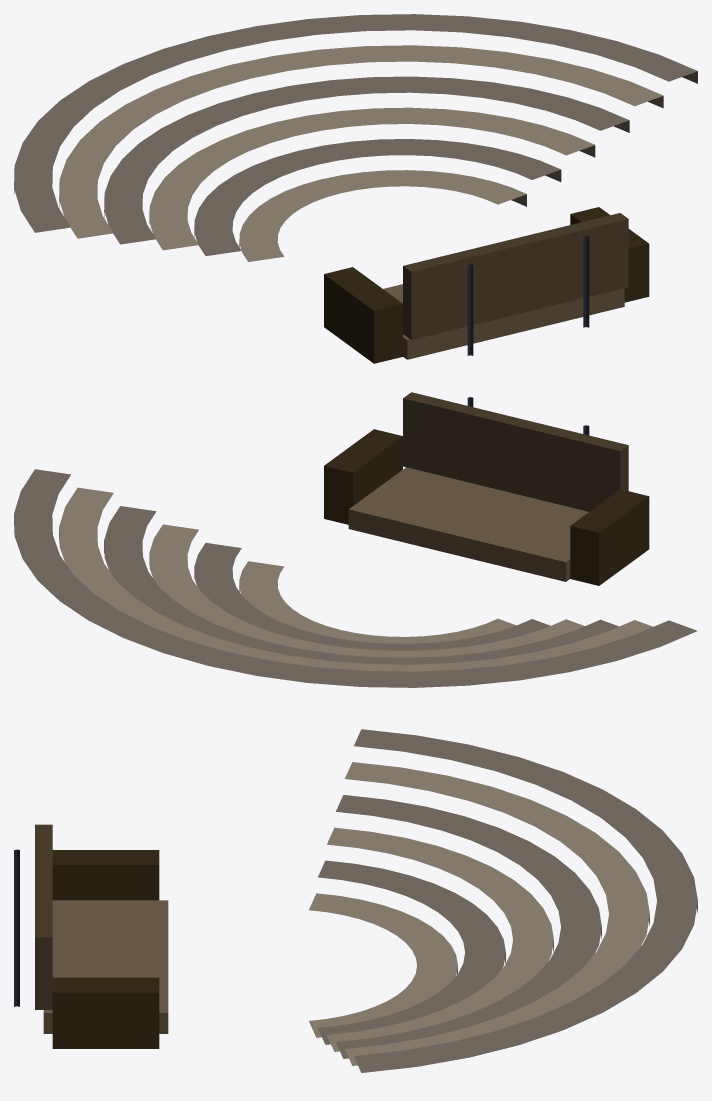
Rendered from amphi-high.glb.
The picture shows the model from 3 angles, top to bottom: view 1: azimuth 30°, elevation 25°; view 2: azimuth 150°, elevation 25°; view 3: azimuth 270°, elevation 25°; orthographic projection. The views are drawn at different scales.
Bounding box in the file's own units: 91.55 × 12.2 × 76.95.
